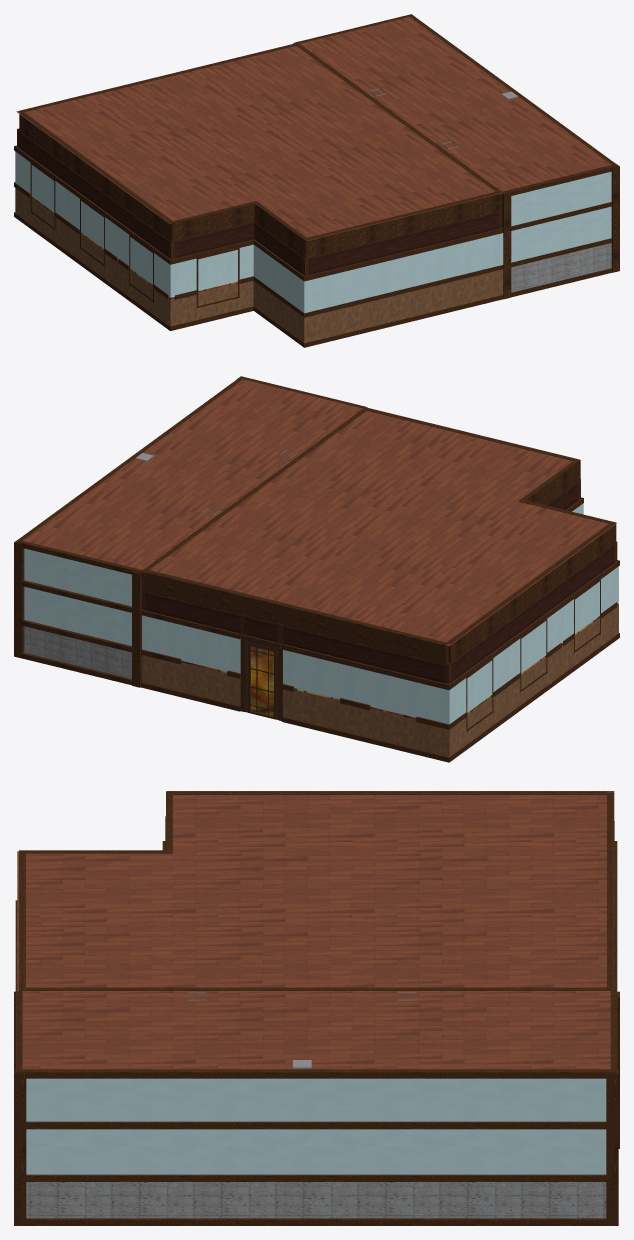
Rendered from resto_ni_teo.obj.
3 views of the same model, one above another, from view 1: azimuth 30°, elevation 25°; view 2: azimuth 150°, elevation 25°; view 3: azimuth 270°, elevation 25° (orthographic). The views are drawn at different scales.
Parts seen in each view (by area): view 1: Object_181, Object_365, Object_364, Object_367, Object_361, Object_358, Object_366, Object_331, Object_347, Object_344, Object_337, Object_318 (+16 smaller); view 2: Object_181, Object_365, Object_364, Object_367, Object_343, Object_310, Object_358, Object_357, Object_366, Object_344, Object_333, Object_363 (+20 smaller); view 3: Object_181, Object_367, Object_366, Object_320, Object_348, Object_351, Object_349, Object_344, Object_343, Object_347, Object_331, Object_333 (+1 smaller).
Boxes of the visible parts, box(x1,y1,x2,y2) form: Object_181: box(16, 17, 611, 240); Object_365: box(15, 151, 503, 313); Object_364: box(15, 188, 503, 343); Object_367: box(511, 171, 611, 262); Object_361: box(309, 212, 499, 274); Object_358: box(19, 132, 168, 257); Object_366: box(511, 243, 611, 292); Object_331: box(307, 164, 618, 280); Object_347: box(307, 190, 502, 248); Object_344: box(19, 112, 175, 233); Object_337: box(309, 202, 502, 258); Object_318: box(308, 268, 611, 346); Object_181: box(23, 379, 616, 646); Object_365: box(142, 503, 618, 724); Object_364: box(142, 603, 618, 756); Object_367: box(24, 548, 131, 645); Object_343: box(142, 569, 448, 655); Object_310: box(142, 581, 448, 665); Object_358: box(451, 544, 614, 681); Object_357: box(283, 626, 445, 683); Object_366: box(24, 626, 131, 678); Object_344: box(447, 521, 616, 653); Object_333: box(15, 539, 240, 639); Object_363: box(145, 592, 240, 633); Object_181: box(17, 791, 614, 1069); Object_367: box(26, 1078, 606, 1174); Object_366: box(26, 1182, 606, 1218); Object_320: box(22, 1069, 610, 1225); Object_348: box(26, 987, 606, 990); Object_351: box(606, 1068, 618, 1225); Object_349: box(14, 1068, 26, 1225); Object_344: box(166, 791, 606, 794); Object_343: box(607, 792, 613, 990); Object_347: box(19, 853, 25, 990); Object_331: box(15, 903, 22, 1073); Object_333: box(610, 977, 617, 1073).
Size of the model in its own units: 18.86 by 4.82 by 17.08.
